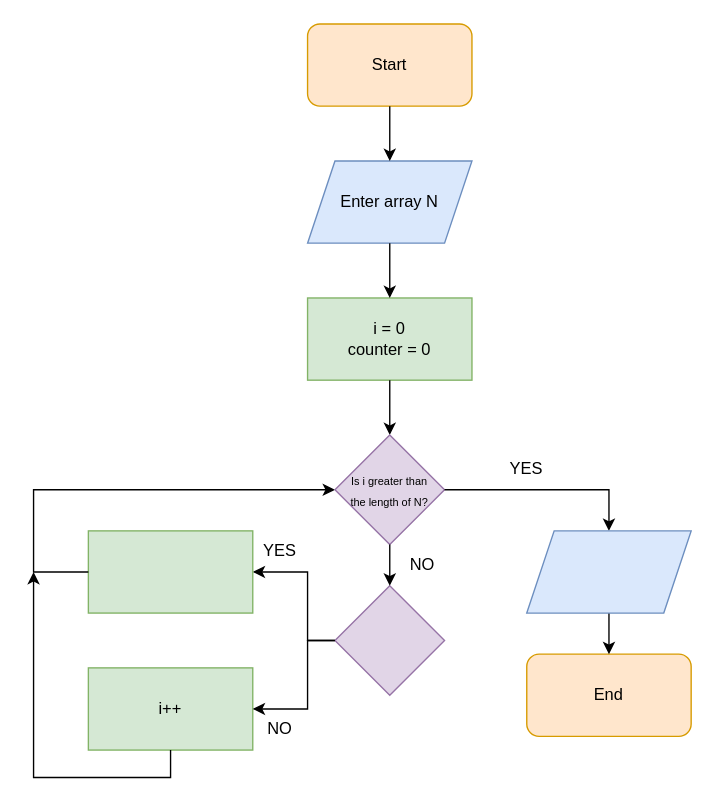
The diagram is 715 pixels wide and 812 high, and some of its shapes have lost their labels. The centre of each missing label's shape, as x and y in pixels:
"i ++ counter++" goes at pixel 170 571.
"Is N[i] greater than 50?" goes at pixel 389 639.
"Output counter" goes at pixel 608 571.
